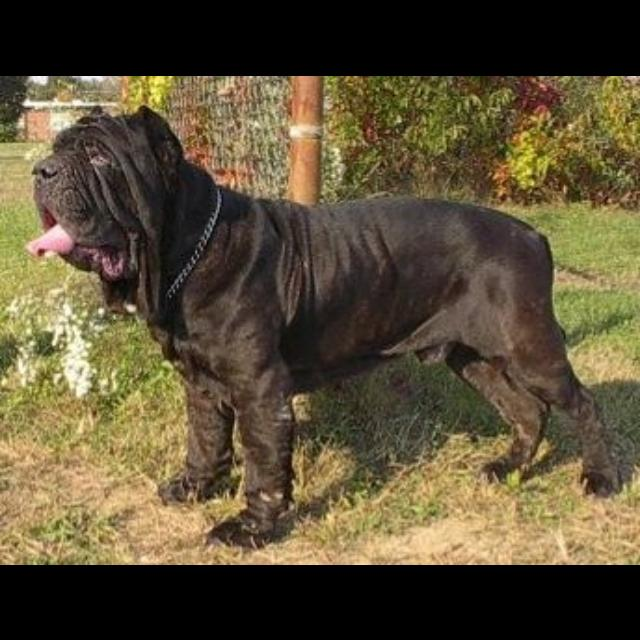mastino_napoletano: (26, 102, 623, 550)
